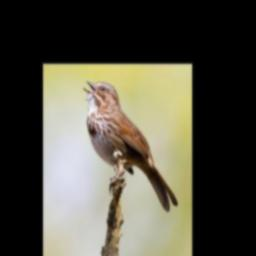Sparrow: (81, 77, 179, 213)
